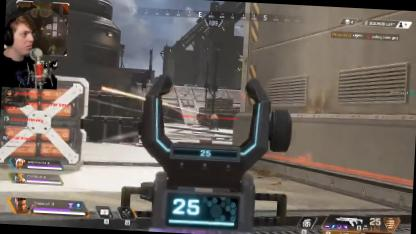Target: (210, 113, 220, 130)
